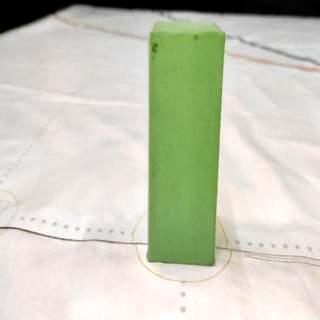greenbox: (143, 14, 231, 278)
